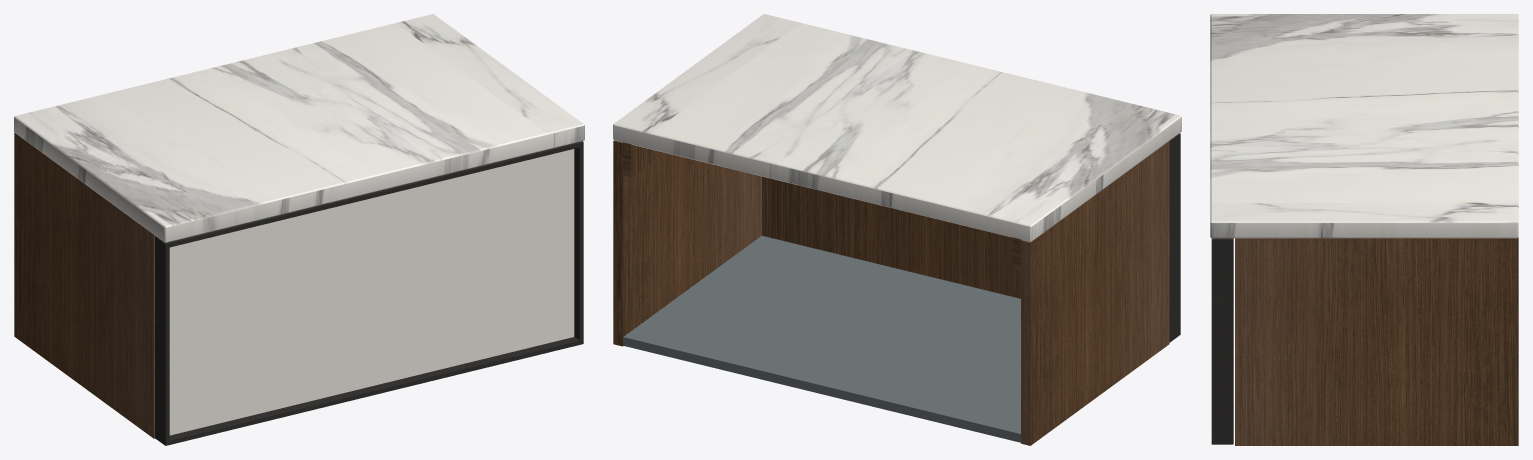
The picture shows the model from 3 angles, left to right: view 1: azimuth 30°, elevation 25°; view 2: azimuth 150°, elevation 25°; view 3: azimuth 270°, elevation 25°; orthographic projection.
Visible parts, largest first — view 1: AT01; view 2: AT01; view 3: AT01.
Part boxes in pixels (x1=…): AT01: x1=14, y1=14, x2=584, y2=445; AT01: x1=613, y1=14, x2=1181, y2=445; AT01: x1=1210, y1=14, x2=1518, y2=445.
Bounding box in the file's own units: 0.782 × 0.393 × 0.489.
5 materials, 3 textured.
